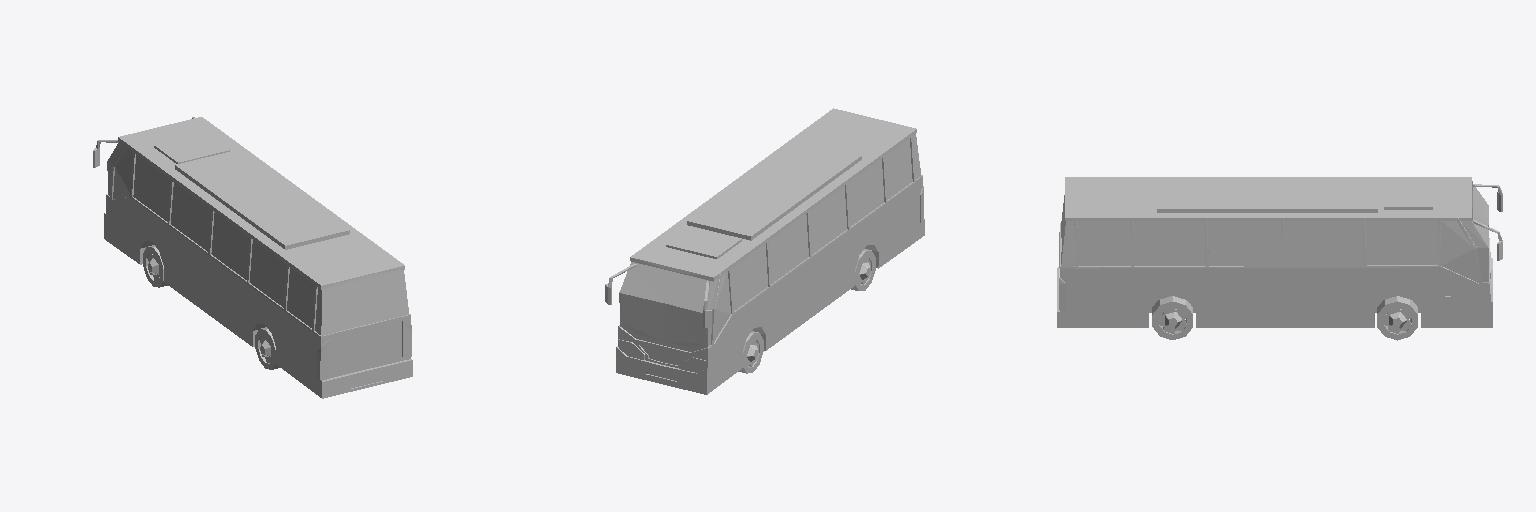
The model's file is Bus.obj.
3 renders of one model, left to right at view 1: azimuth 30°, elevation 25°; view 2: azimuth 150°, elevation 25°; view 3: azimuth 270°, elevation 25°, orthographic.
Visible parts, largest first — view 1: Mesh_0; view 2: Mesh_0; view 3: Mesh_0.
Boxes of the visible parts, x1,y1,x2,y2 form: Mesh_0: [93, 117, 412, 398]; Mesh_0: [605, 108, 924, 394]; Mesh_0: [1057, 177, 1502, 340].
Size of the model in its own units: 3.81 by 4.27 by 13.7.